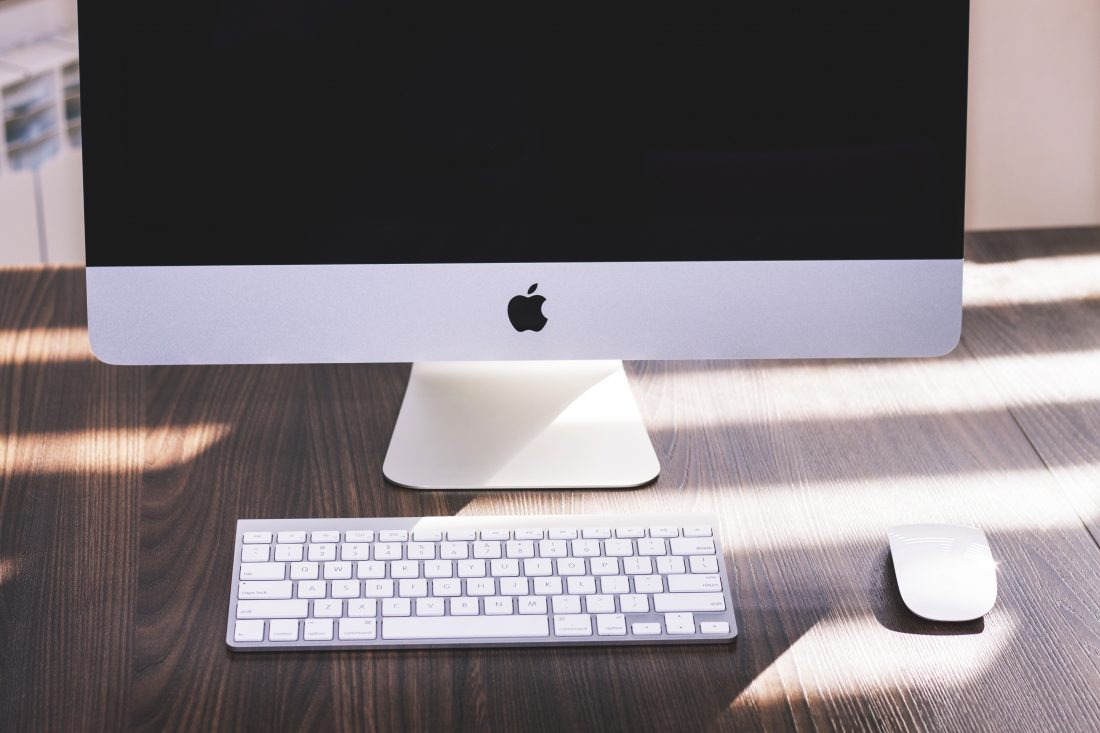keyboard: (221, 512, 746, 652)
mouse: (880, 517, 1005, 629)
